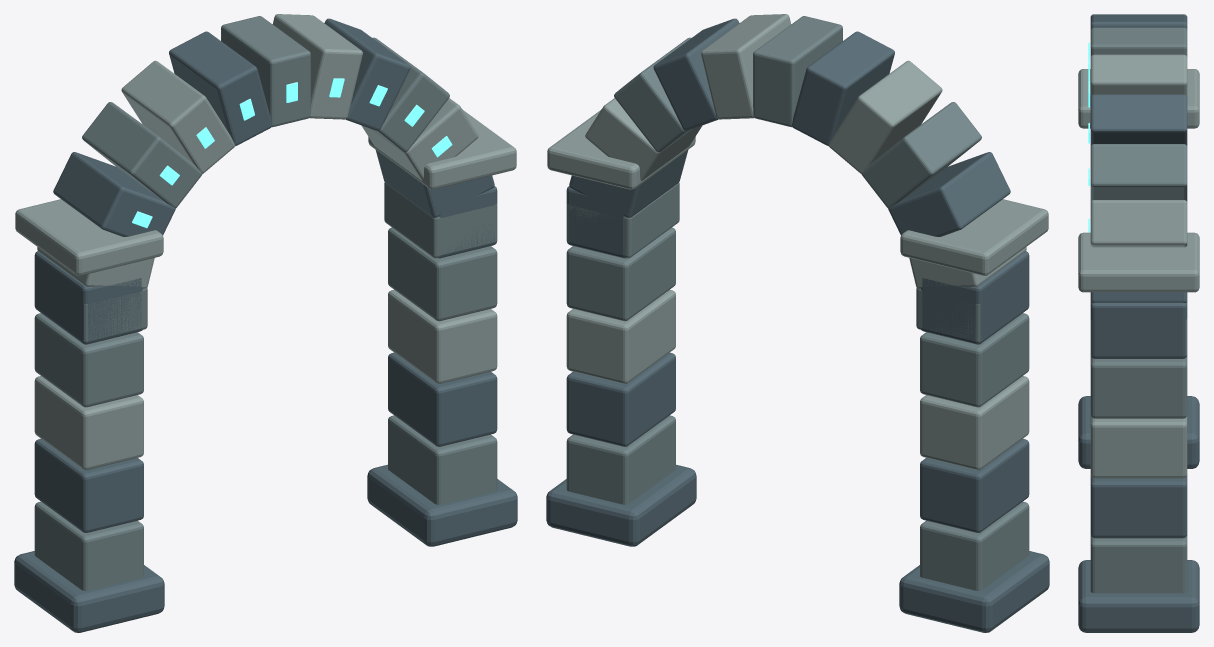
File: entrance_arch.glb
3 views of the same model, side by side, from view 1: azimuth 30°, elevation 25°; view 2: azimuth 150°, elevation 25°; view 3: azimuth 270°, elevation 25° (orthographic). The views are drawn at different scales.
Visible parts, largest first — view 1: entrance_arch; view 2: entrance_arch; view 3: entrance_arch.
Boxes of the visible parts, bbox=[...] form: entrance_arch: bbox=[14, 14, 517, 632]; entrance_arch: bbox=[546, 14, 1049, 632]; entrance_arch: bbox=[1078, 14, 1199, 632].
Bounding box in the file's own units: 5.05 × 5.65 × 1.25.
